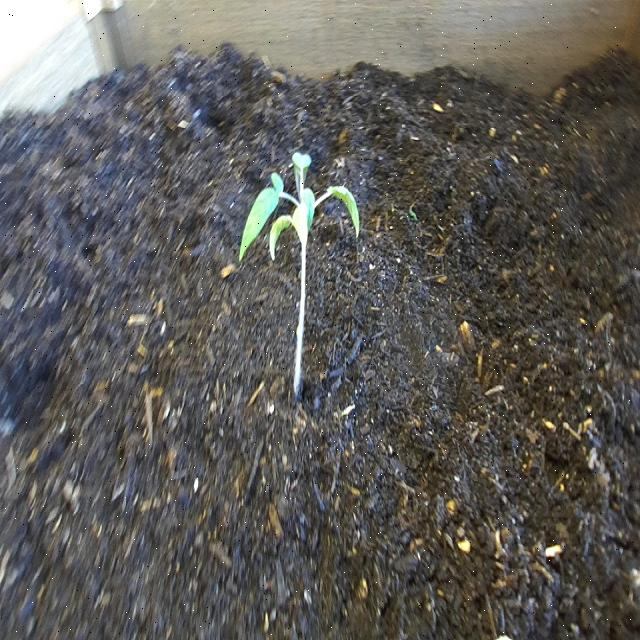Healthy: (238, 148, 364, 406)
